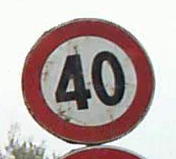limite 40: (19, 13, 155, 144)
